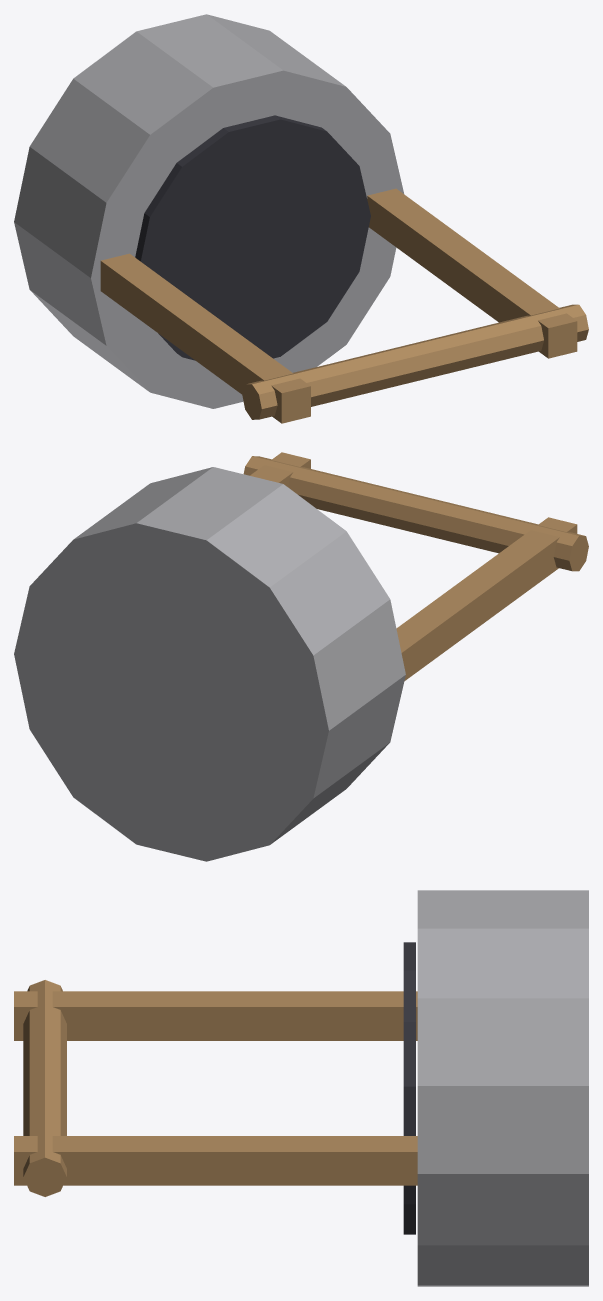
The model's file is desert_dry_well.glb.
3 views of the same model, one above another, from view 1: azimuth 30°, elevation 25°; view 2: azimuth 150°, elevation 25°; view 3: azimuth 270°, elevation 25° (orthographic). The views are drawn at different scales.
Parts seen in each view (by area): view 1: stone_ring, dark_hole, crossbeam, post_l, post_r; view 2: stone_ring, crossbeam, post_l, post_r; view 3: stone_ring, post_r, post_l, crossbeam, dark_hole.
Part boxes in pixels (left/top/right/bottom): stone_ring: left=14, top=14, right=403, bottom=408; dark_hole: left=135, top=115, right=370, bottom=360; crossbeam: left=242, top=304, right=588, bottom=419; post_l: left=100, top=253, right=310, bottom=423; post_r: left=367, top=188, right=577, bottom=358; stone_ring: left=14, top=467, right=405, bottom=861; crossbeam: left=243, top=456, right=588, bottom=571; post_l: left=396, top=517, right=577, bottom=681; post_r: left=250, top=452, right=310, bottom=486; stone_ring: left=417, top=890, right=588, bottom=1286; post_r: left=14, top=1136, right=417, bottom=1185; post_l: left=14, top=991, right=417, bottom=1040; crossbeam: left=23, top=980, right=66, bottom=1196; dark_hole: left=403, top=942, right=415, bottom=1234.
Size of the model in its own units: 1.35 by 1.27 by 1.85.
